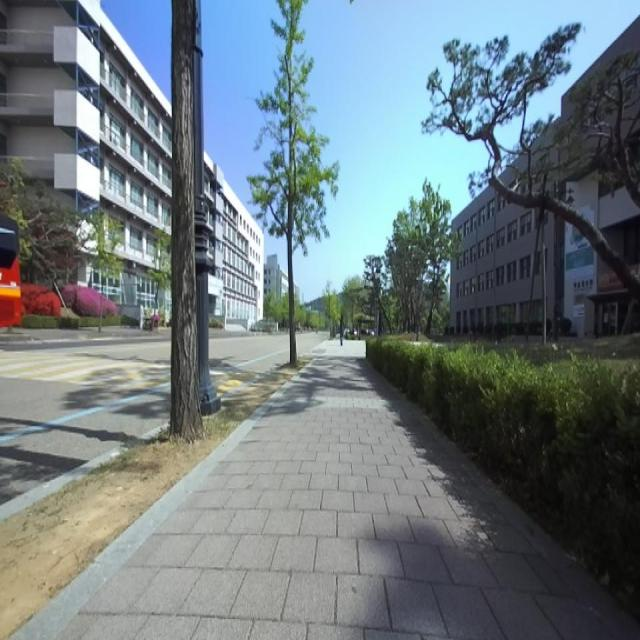sidewalk: (12, 340, 640, 639)
